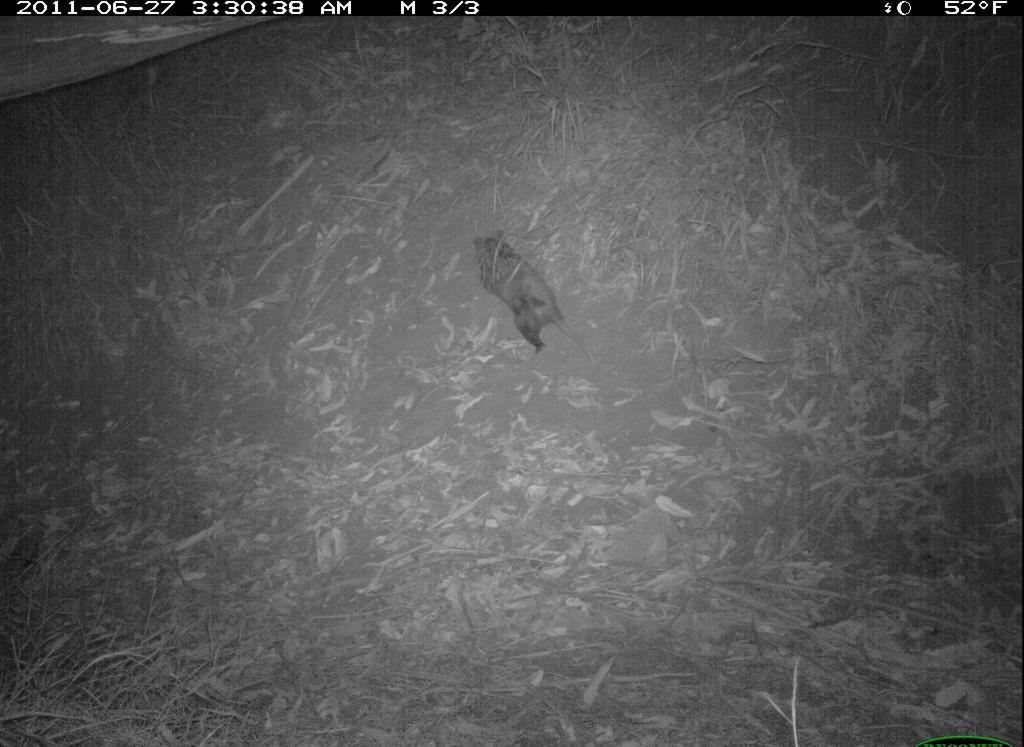opossum: (468, 228, 600, 370)
